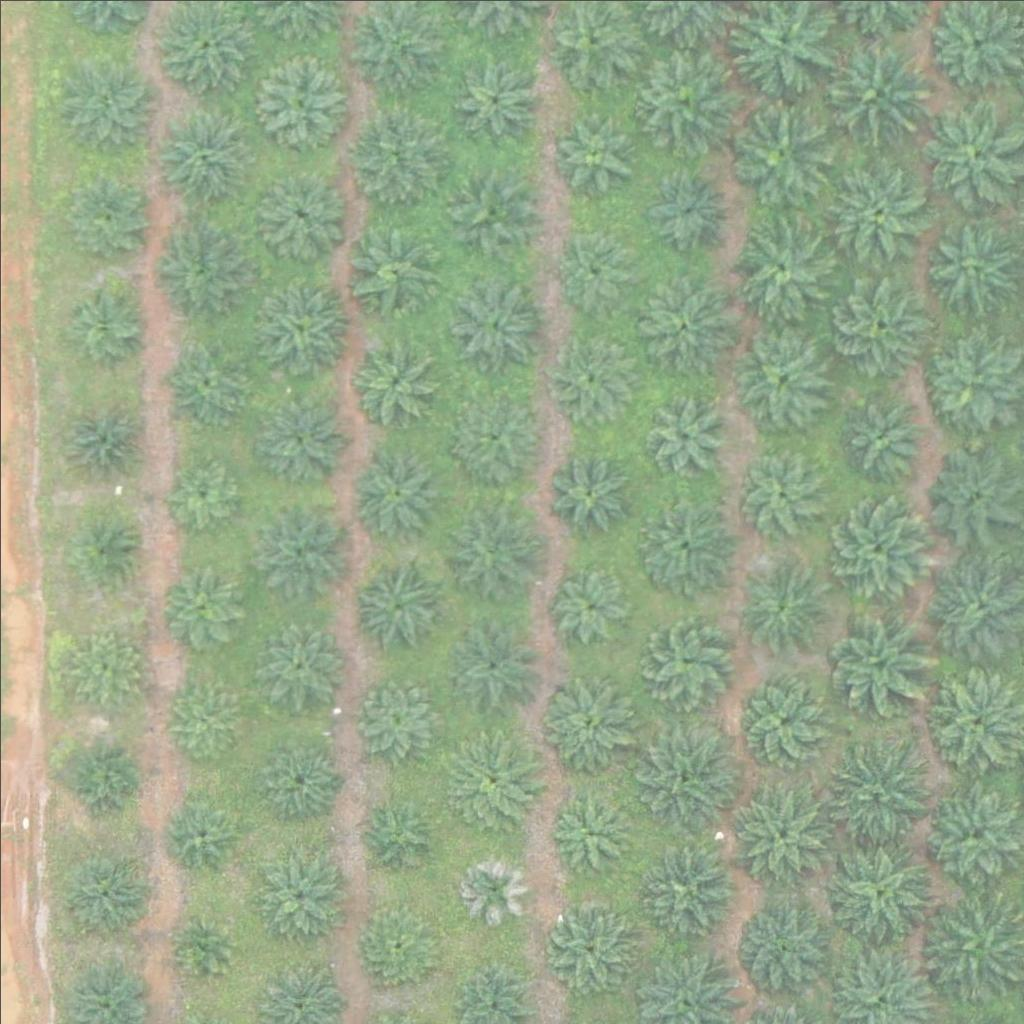Kelapa_Sawit: (823, 833, 936, 947), (815, 734, 928, 848), (821, 603, 934, 716), (819, 493, 932, 606), (629, 718, 741, 832), (821, 157, 933, 270), (814, 30, 926, 143), (921, 784, 1021, 885), (635, 840, 735, 941), (437, 731, 537, 832), (254, 497, 354, 598), (349, 666, 449, 767), (349, 556, 449, 657), (443, 616, 543, 717), (630, 275, 730, 376), (732, 556, 832, 657), (731, 328, 831, 429), (731, 211, 831, 312), (827, 274, 927, 375), (922, 441, 1022, 542), (921, 331, 1021, 432), (440, 163, 540, 264), (345, 110, 445, 211), (249, 50, 349, 151), (147, 105, 247, 206), (731, 897, 831, 997), (729, 780, 829, 880), (151, 217, 251, 317), (251, 278, 351, 378), (345, 221, 445, 321), (440, 501, 540, 601), (445, 274, 545, 374), (535, 673, 635, 773), (636, 611, 736, 711), (632, 495, 732, 595), (732, 670, 832, 770), (730, 108, 830, 208), (632, 48, 732, 148), (353, 898, 441, 987), (251, 731, 339, 820), (255, 166, 343, 255), (352, 792, 440, 880), (61, 274, 149, 362), (61, 846, 149, 934), (158, 337, 246, 425), (256, 618, 344, 706), (257, 393, 345, 481), (544, 556, 632, 644), (835, 392, 923, 480), (450, 53, 538, 141), (161, 565, 248, 653), (58, 393, 145, 481), (544, 899, 631, 987), (255, 846, 342, 934), (353, 445, 440, 533), (350, 334, 437, 422), (450, 385, 537, 473), (638, 393, 725, 481), (736, 449, 823, 537), (62, 173, 149, 261), (62, 58, 149, 146), (550, 794, 625, 870), (548, 451, 623, 527), (550, 340, 625, 416), (647, 170, 722, 246), (553, 117, 628, 193), (160, 794, 235, 869), (162, 452, 237, 527), (70, 631, 145, 706), (63, 739, 138, 814), (454, 848, 529, 923), (168, 683, 243, 758), (558, 226, 633, 301), (77, 520, 140, 583), (170, 911, 233, 974)
